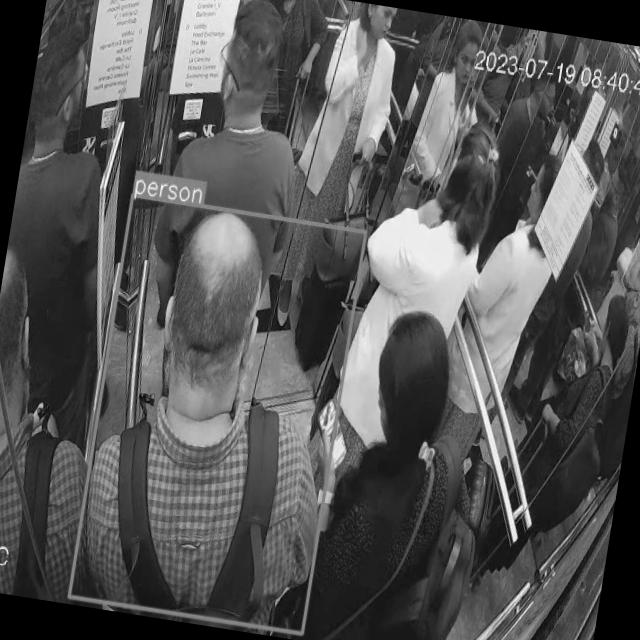person: (74, 206, 364, 640), (330, 109, 507, 513), (306, 327, 513, 640), (0, 34, 155, 448), (0, 243, 129, 605), (489, 282, 640, 584), (163, 0, 338, 245), (288, 0, 410, 346), (588, 257, 640, 488)
